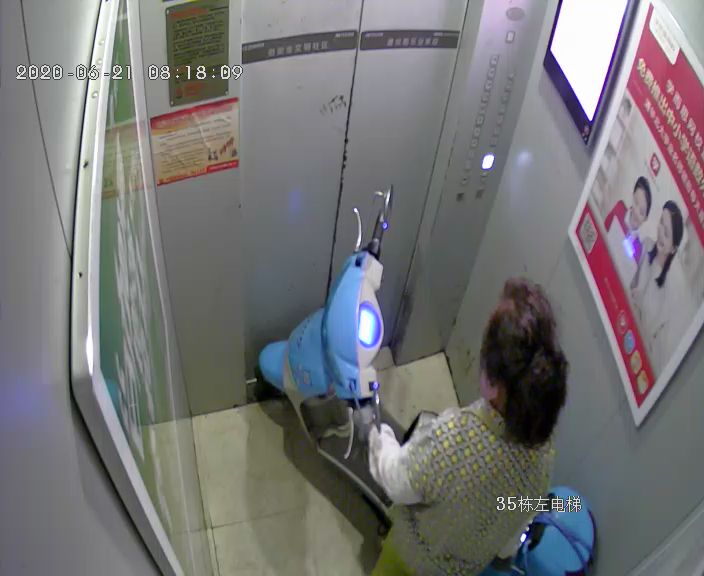Electric-bicycle: (255, 188, 591, 571)
